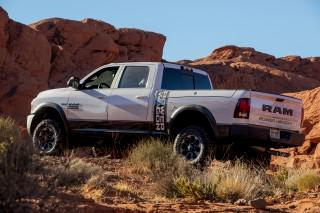ram: (259, 103, 299, 118)
